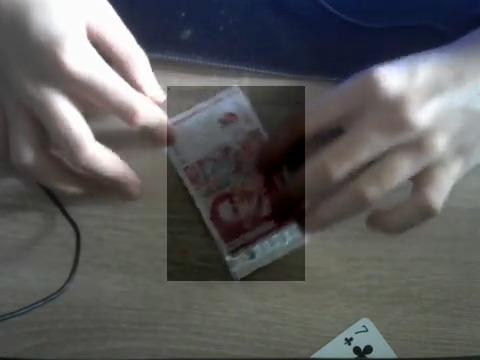5leva: (167, 86, 305, 281)
